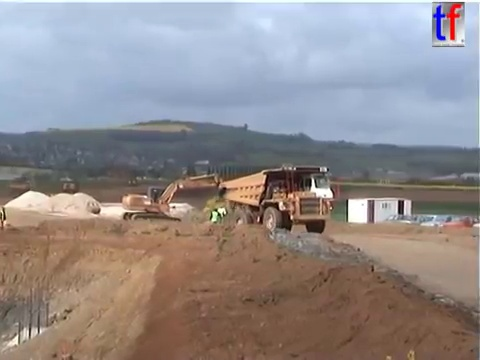excavator: (120, 171, 239, 227)
truck: (217, 163, 338, 238), (8, 176, 31, 200), (60, 180, 78, 196), (126, 176, 136, 188)
worker: (208, 207, 223, 232), (215, 203, 227, 228)
